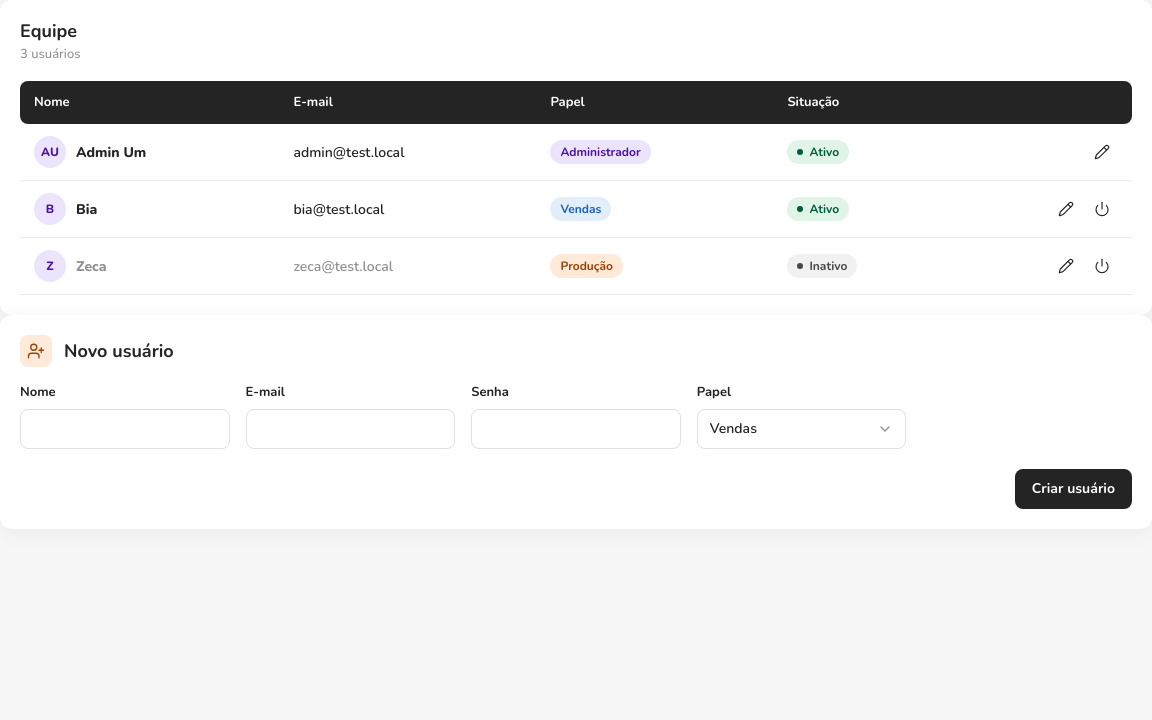
Scenario: Users page › saving closes the edit, cancel discards it
The width and height of the screenshot is (1152, 720).
Click the button named "Editar" in the row of "bia@test.local" at [1066, 209], box [1050,193,1082,225]
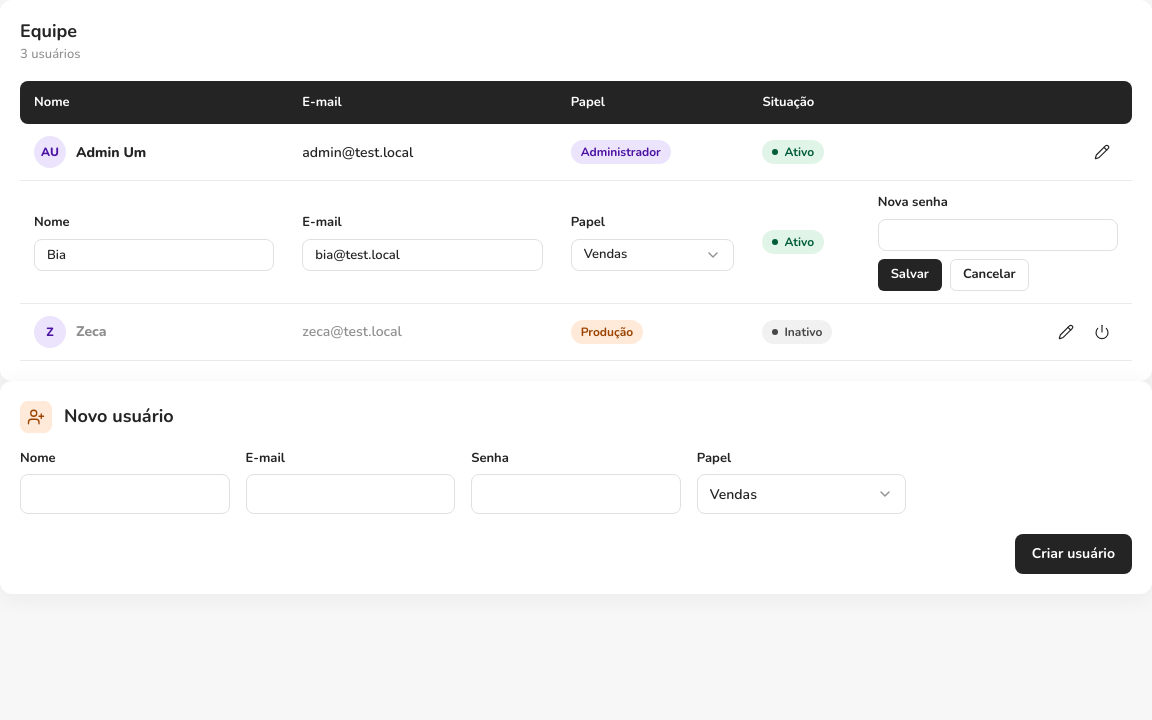
Replace the text in the field labelled "Nome" below "Admin Um" with "Descartado" at [154, 255], box [34,239,274,271]
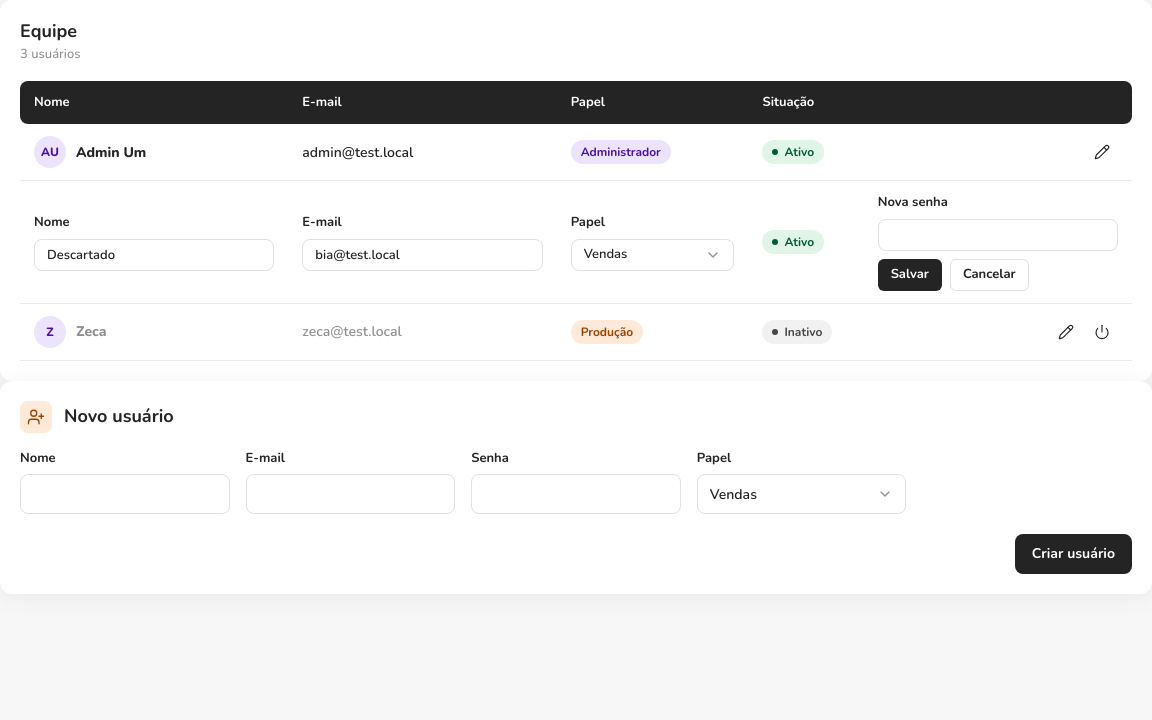
Click the button "Cancelar" at [989, 275], box [950,259,1029,291]
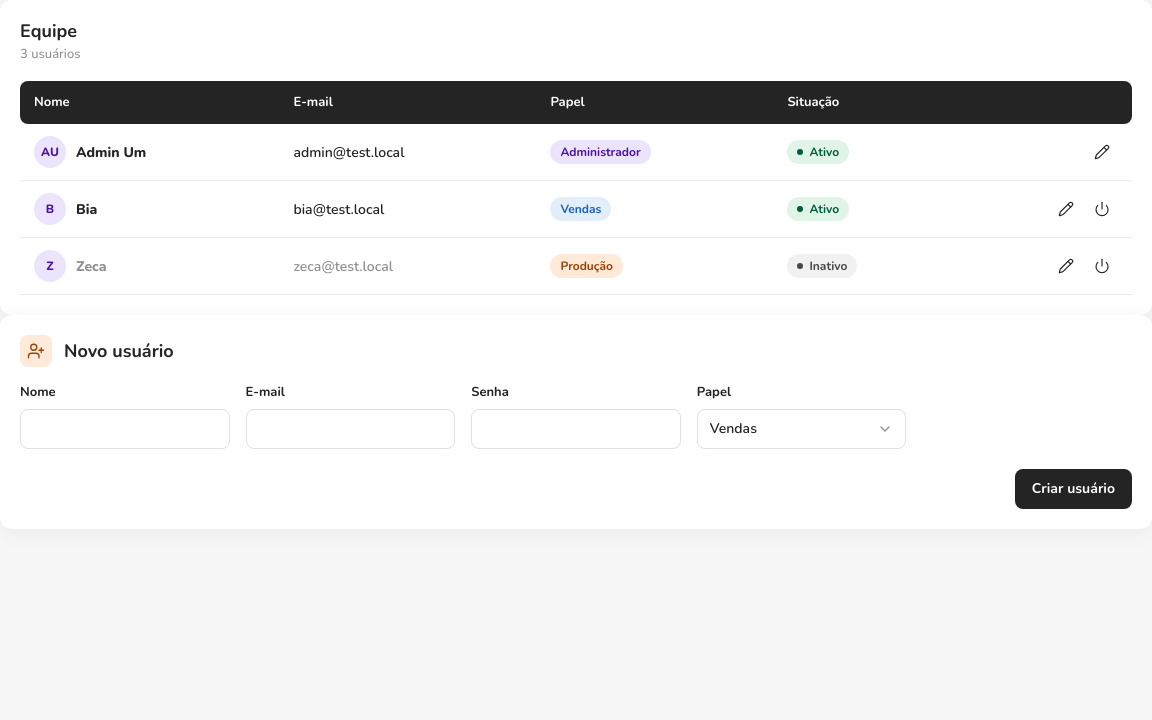
Check: the button "Salvar" is gone
Check: the text "Bia" is shown, box [76,200,97,219]
Click the button named "Editar" in the row of "bia@test.local" at [1066, 209], box [1050,193,1082,225]
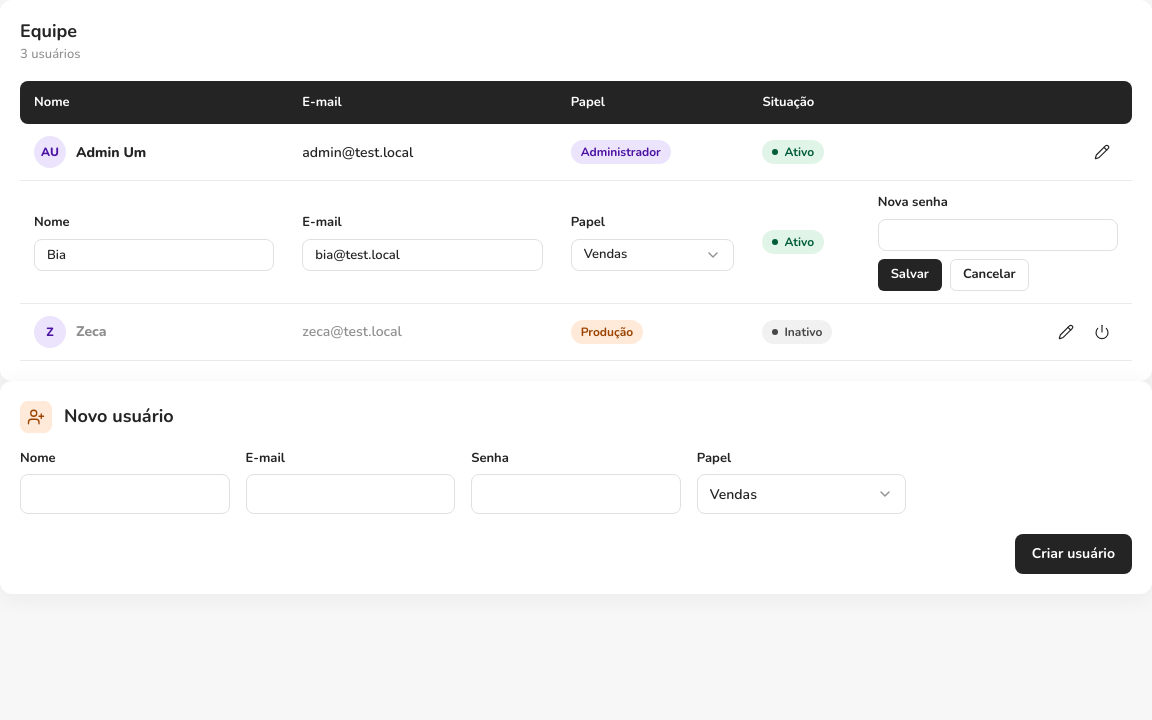
Replace the text in the field labelled "Nome" below "Admin Um" with "Bia Nova" at [154, 255], box [34,239,274,271]
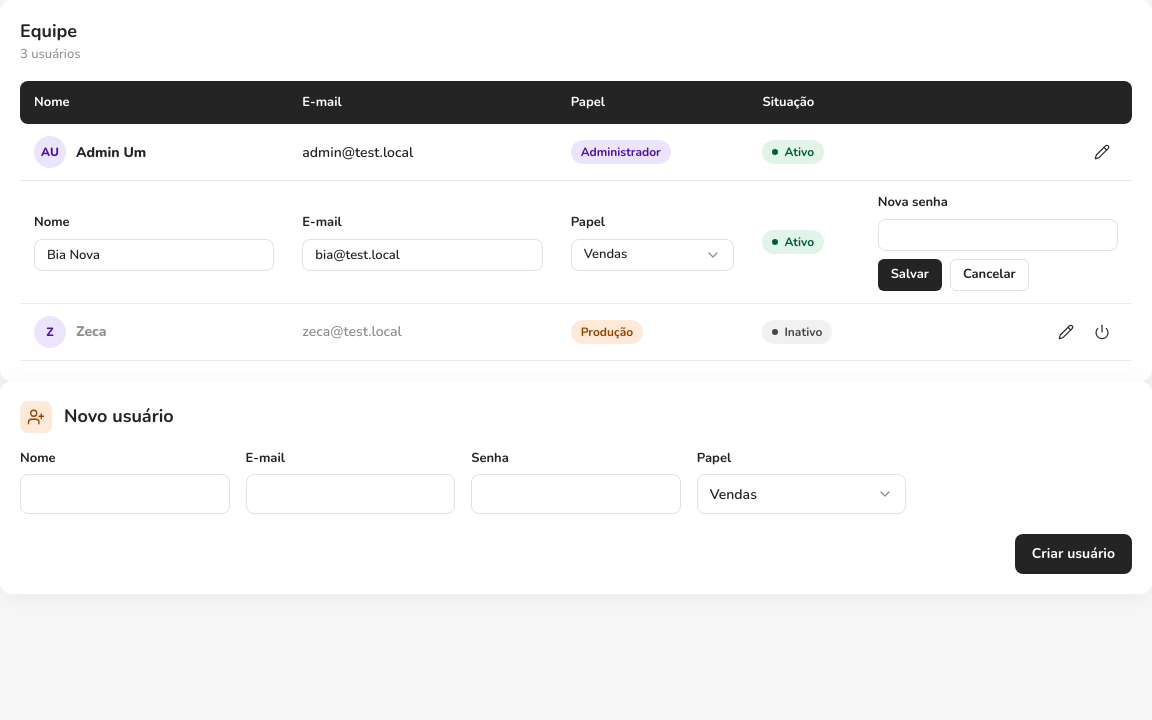
Click the button "Salvar" at [910, 275], box [878,259,942,291]
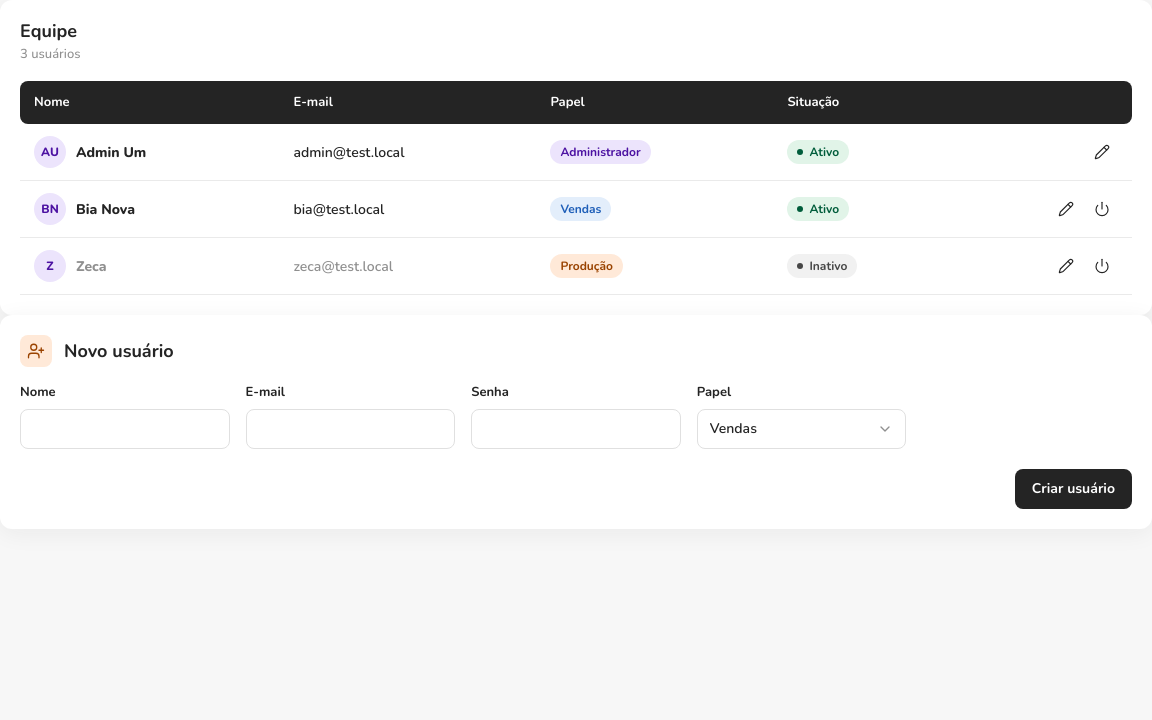
Check: the text "Bia Nova" is shown, box [76,200,135,219]
Check: the button "Salvar" is gone
